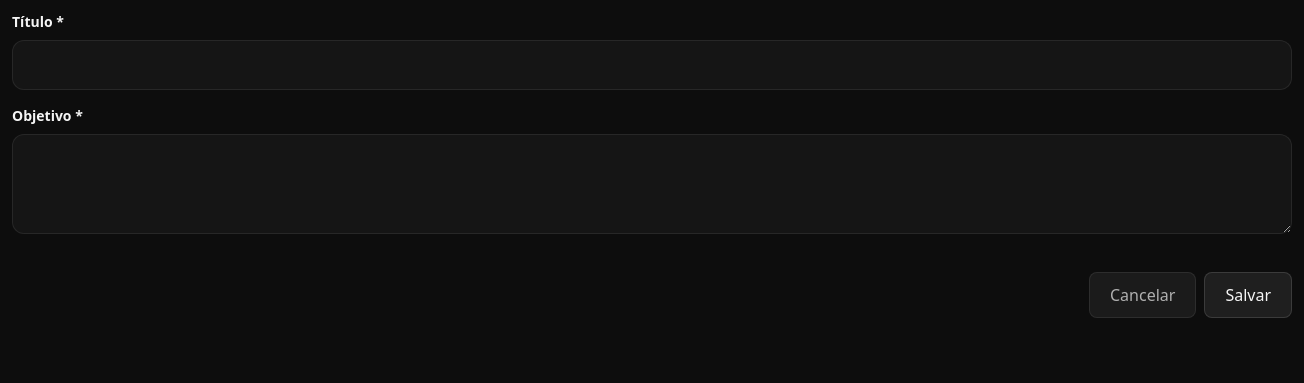
Scenario: PlanoForm Integration Tests › should validate required fields
This screenshot has width=1304, height=383.
Click the button "Salvar".
click(1248, 295)  # box [1204,272,1292,318]
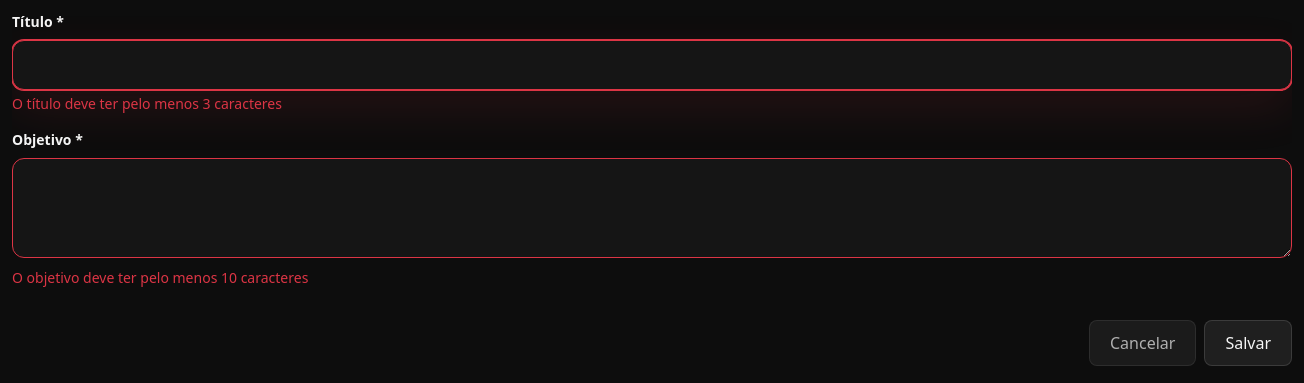
Expected: the text "O título deve ter pelo menos 3 caracteres" is shown, [12,94,282,113]
Expected: the text "O objetivo deve ter pelo menos 10 caracteres" is shown, [12,268,308,287]
